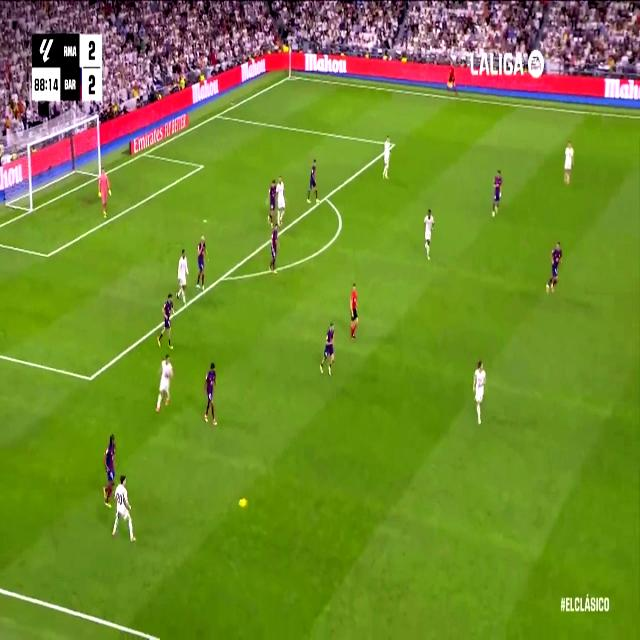bigarea_bottom_inner: (85, 366, 96, 390)
bigarea_top_inner: (390, 138, 396, 151)
bigarea_top_outter: (214, 109, 220, 120)
bottom_arc_area_intersection: (217, 270, 227, 286)
corner: (288, 71, 294, 79)
smallarea_bottom_inner: (43, 245, 52, 265)
smallarea_top_inner: (198, 159, 204, 172)
top_arc_area_intersection: (321, 189, 330, 206)
